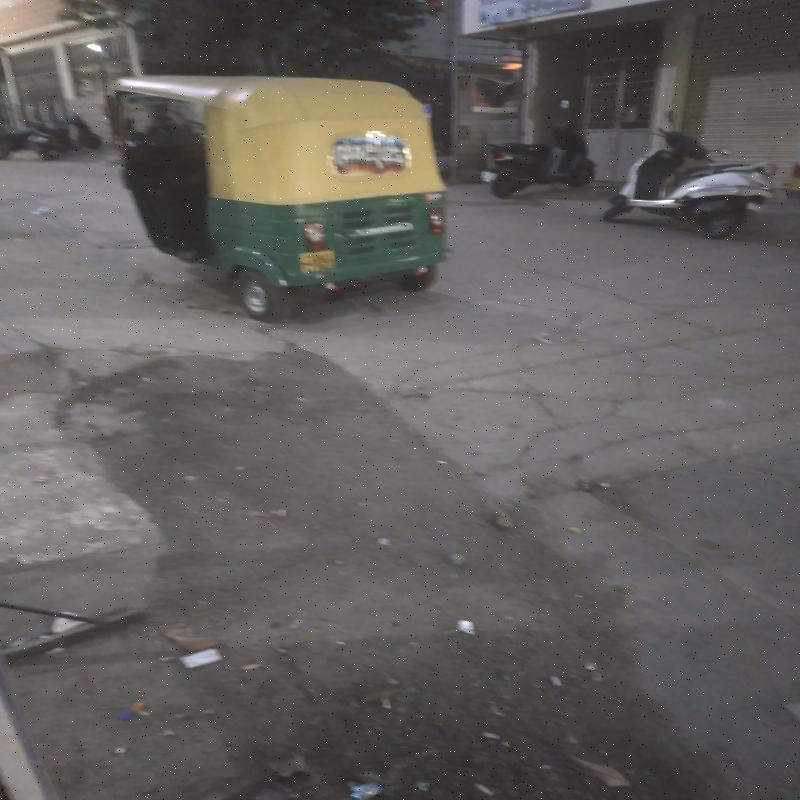auto: (120, 78, 425, 310)
